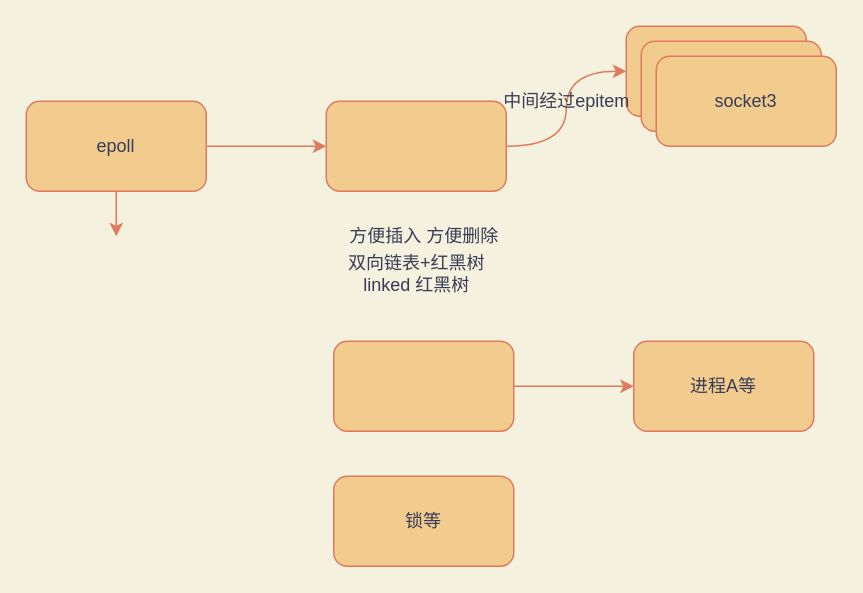
This 863x593 diagram has some shape labels left out. The centre of each missing label's shape, as x and y in pixels:
rdlist 就绪列表: (x=415, y=145)
等待队列: (x=423, y=385)
